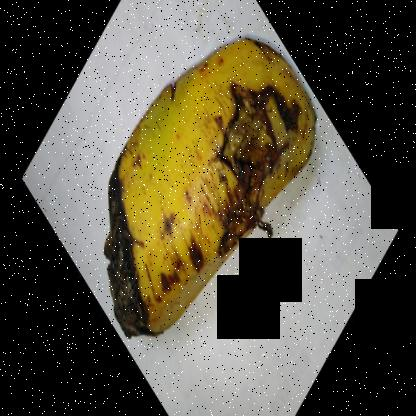rotten: (167, 62, 318, 294), (84, 152, 170, 375)
